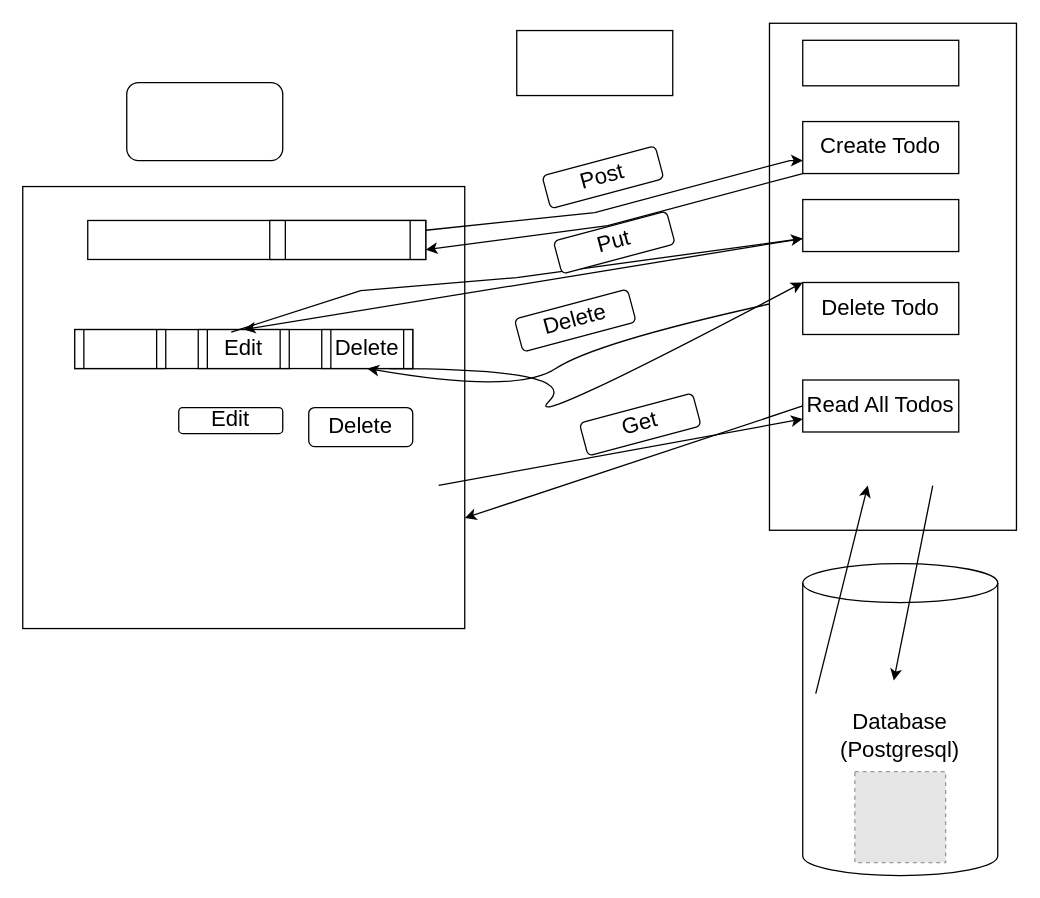
Image size: 1040x898. Some labels were removed from this diagram. Grey dashed boxes stand in for pictures. Each missing label, with the centre of its shape:
"Front End" belongs at pixel 204 121.
"HTTP" belongs at pixel 594 62.
"Submit" belongs at pixel 347 239.
"The Server" belongs at pixel 880 62.
"Todo" belongs at pixel 119 348.
"Update Todo" belongs at pixel 880 225.
